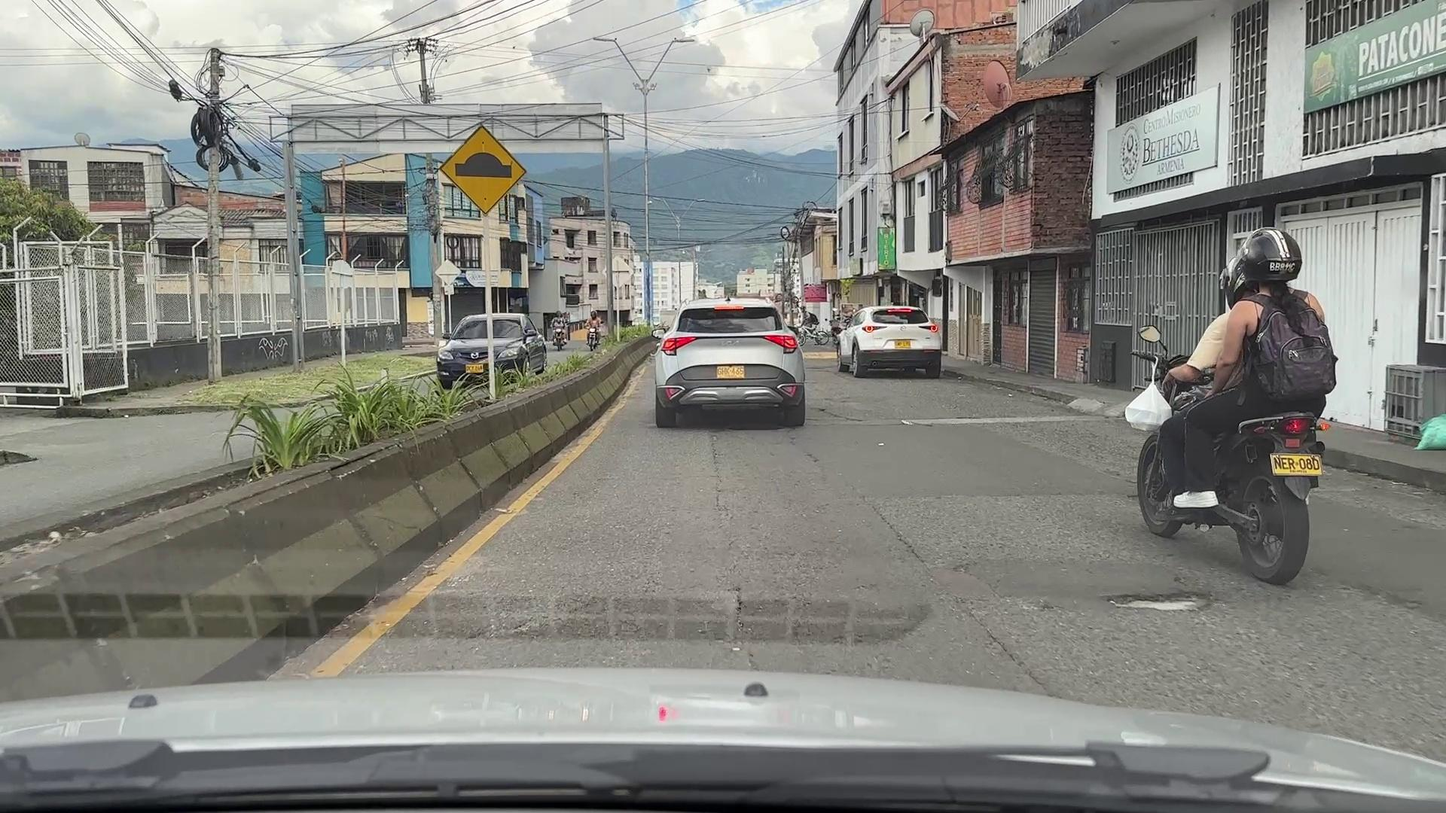bache: (1115, 599, 1199, 611)
grieta: (879, 514, 928, 570)
